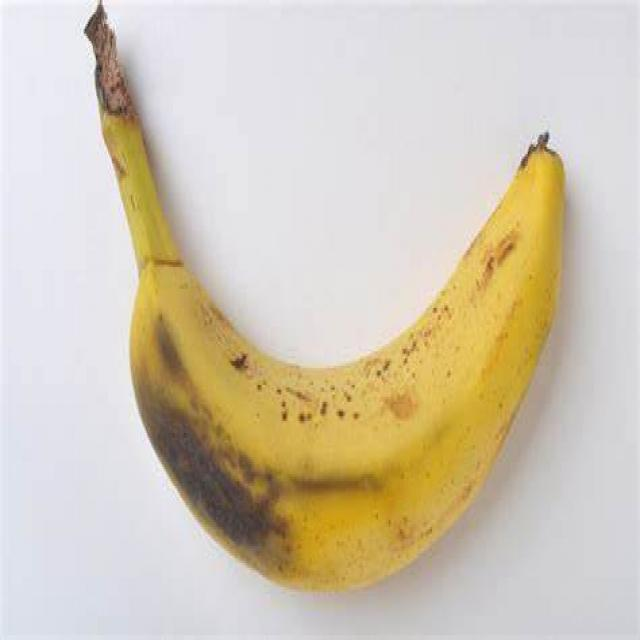Banana: (88, 14, 562, 590)
